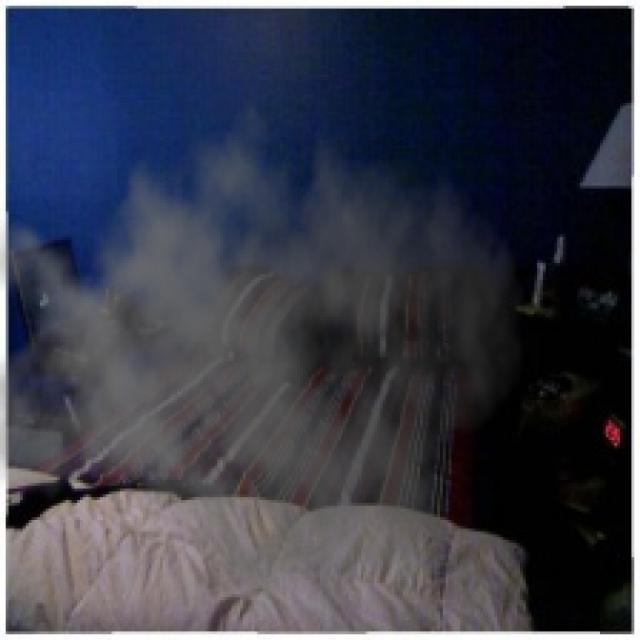Smoke: (0, 71, 526, 623)
